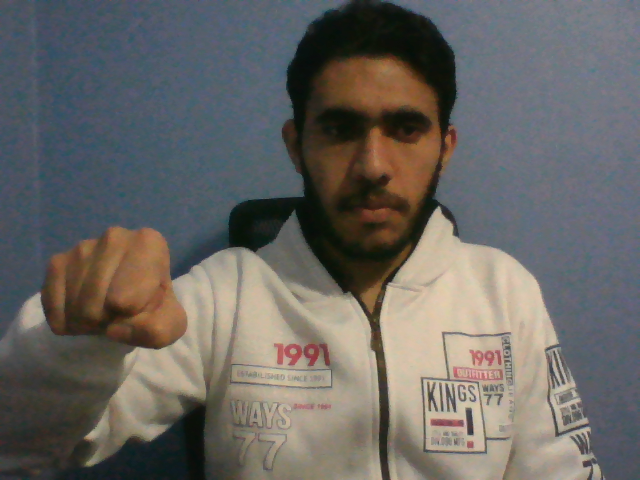yes: (32, 223, 189, 356)
